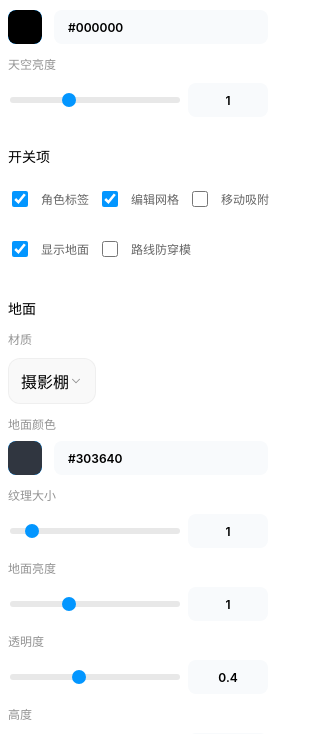
Test case: changes the ground material preset from the visible selector
(page scrolled)
Step 1. Click the button with aria-label "地面材质" → (52,381), box [8,358,96,404]
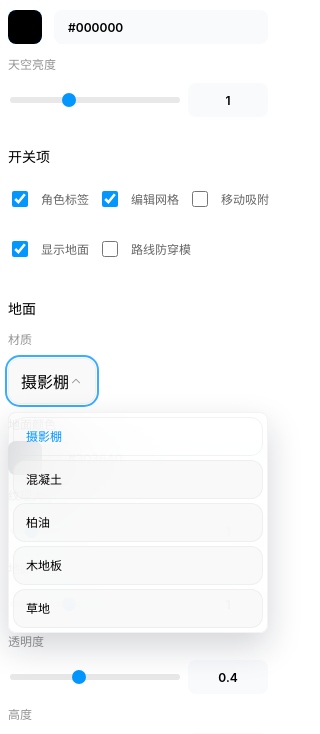
Step 2. Click the option "木地板" → (138,566), box [13,546,263,585]
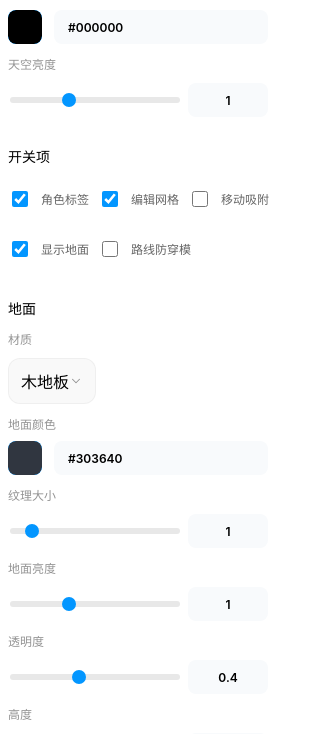
Expected: the button with aria-label "地面材质" reads "木地板", [8,358,96,404]
